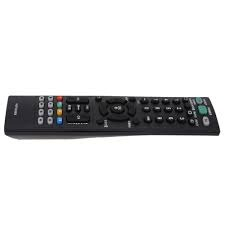remote control: (1, 83, 225, 144)
